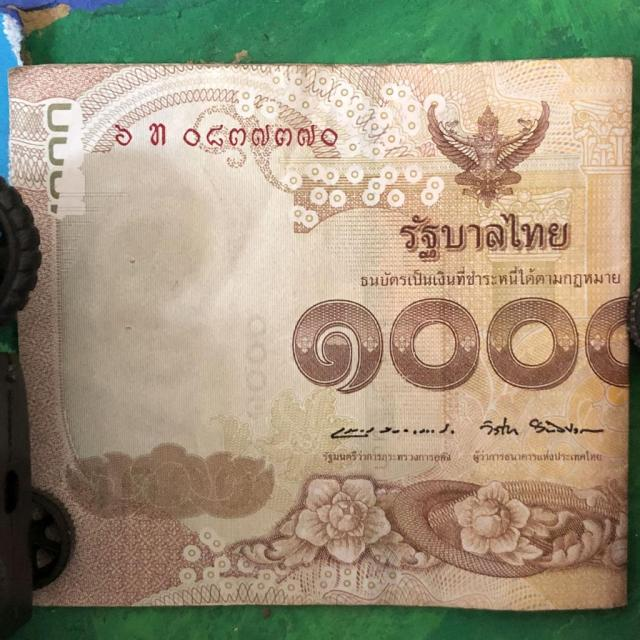THAI1000: (8, 59, 633, 612)
